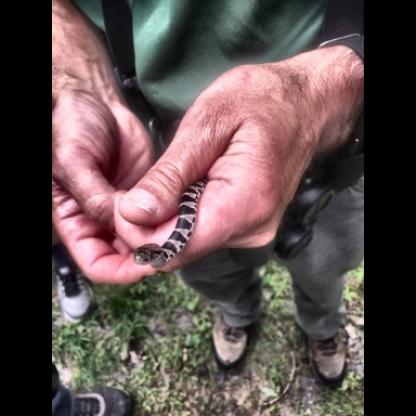Snake: (133, 171, 208, 265)
